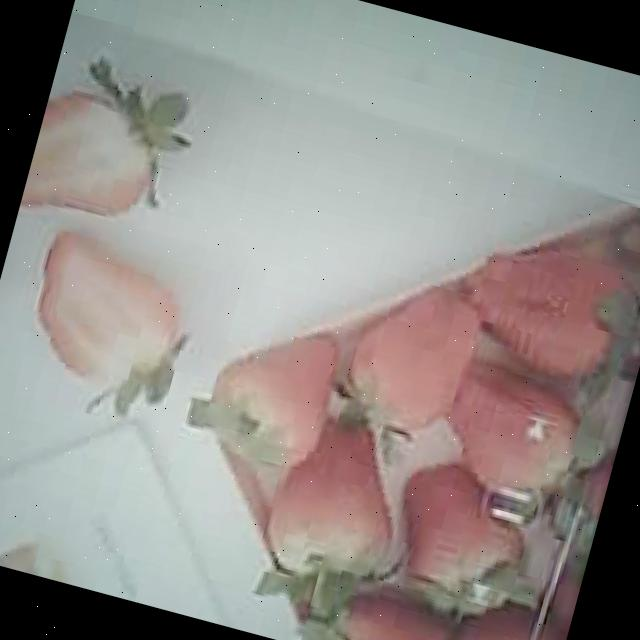strawberry: (263, 408, 416, 587), (455, 235, 637, 383), (341, 276, 490, 442), (384, 452, 542, 608), (200, 320, 345, 471), (439, 356, 588, 500)
